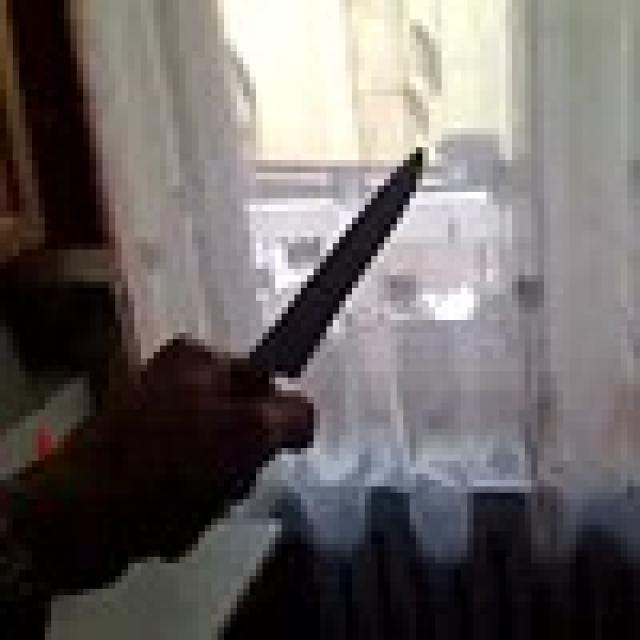Knife: (262, 141, 454, 454)
